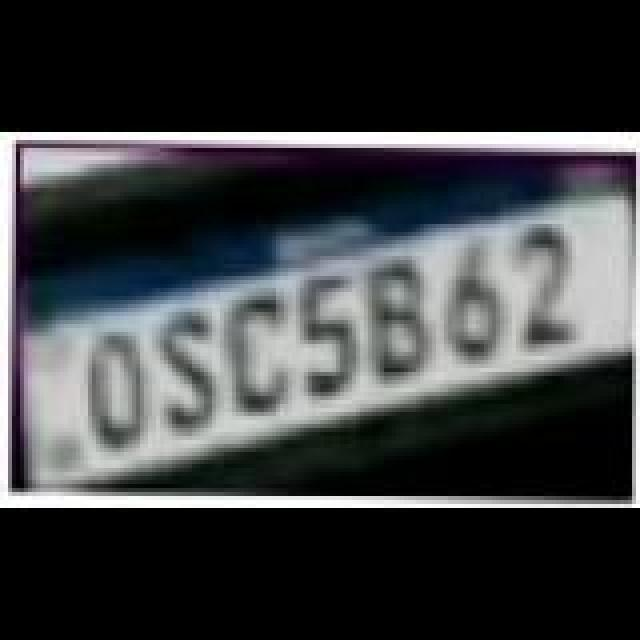2: (506, 224, 582, 352)
5: (290, 278, 366, 402)
6: (438, 240, 514, 368)
B: (364, 258, 444, 382)
C: (222, 294, 298, 418)
O: (78, 332, 154, 452)
S: (156, 310, 228, 434)
